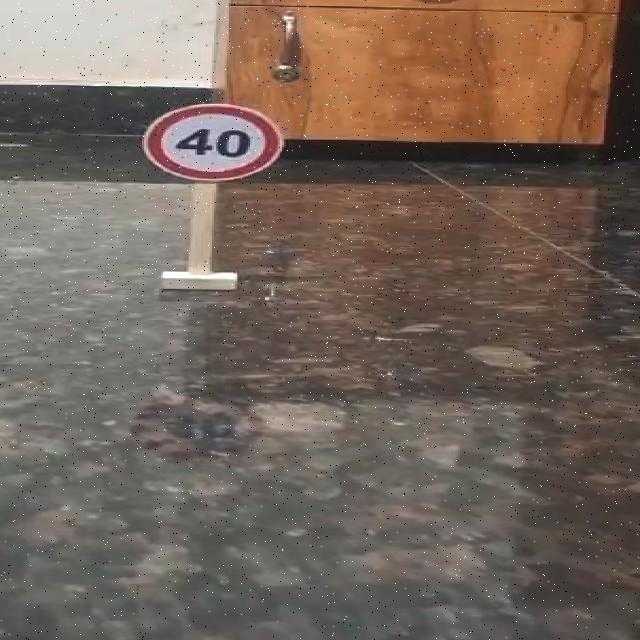Speed40: (136, 100, 286, 184)
